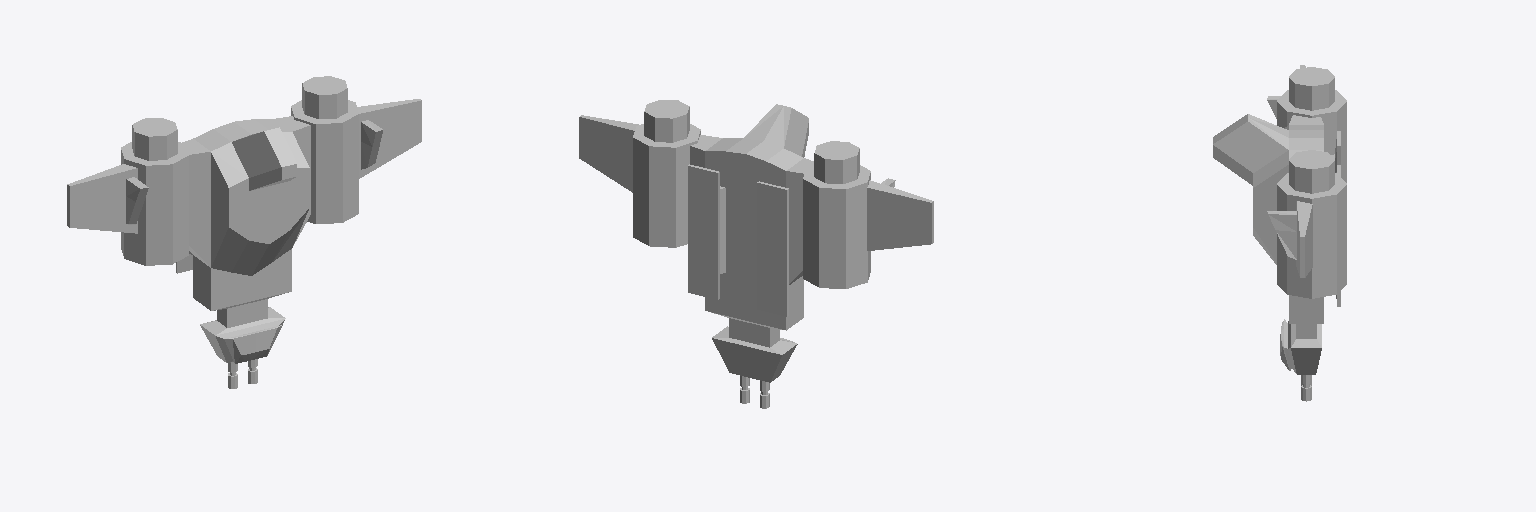
File: spaceship.obj
3 renders of one model, left to right at view 1: azimuth 30°, elevation 25°; view 2: azimuth 150°, elevation 25°; view 3: azimuth 270°, elevation 25°, orthographic.
Parts seen in each view (by area): view 1: Cube.001; view 2: Cube.001; view 3: Cube.001.
Boxes of the visible parts, x1,y1,x2,y2 form: Cube.001: [67, 76, 421, 388]; Cube.001: [579, 100, 933, 408]; Cube.001: [1213, 65, 1346, 401].
Size of the model in its own units: 8.67 by 6.52 by 2.87.